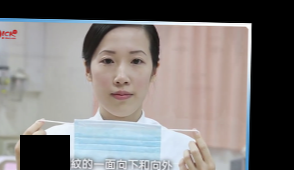without_mask: (89, 45, 153, 117)
